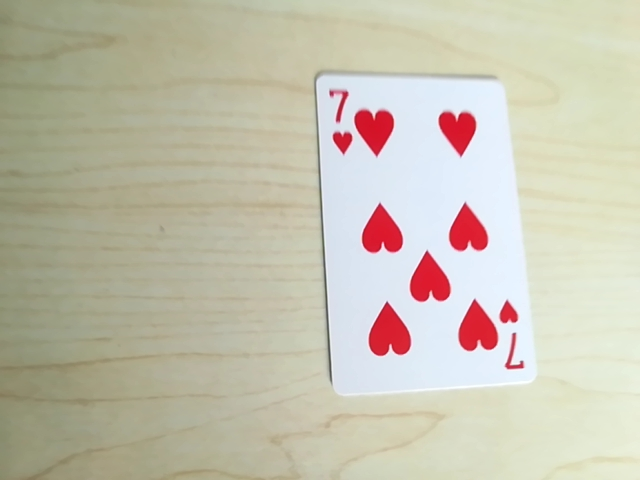hx 7: (497, 336, 528, 379), (318, 78, 352, 117)
